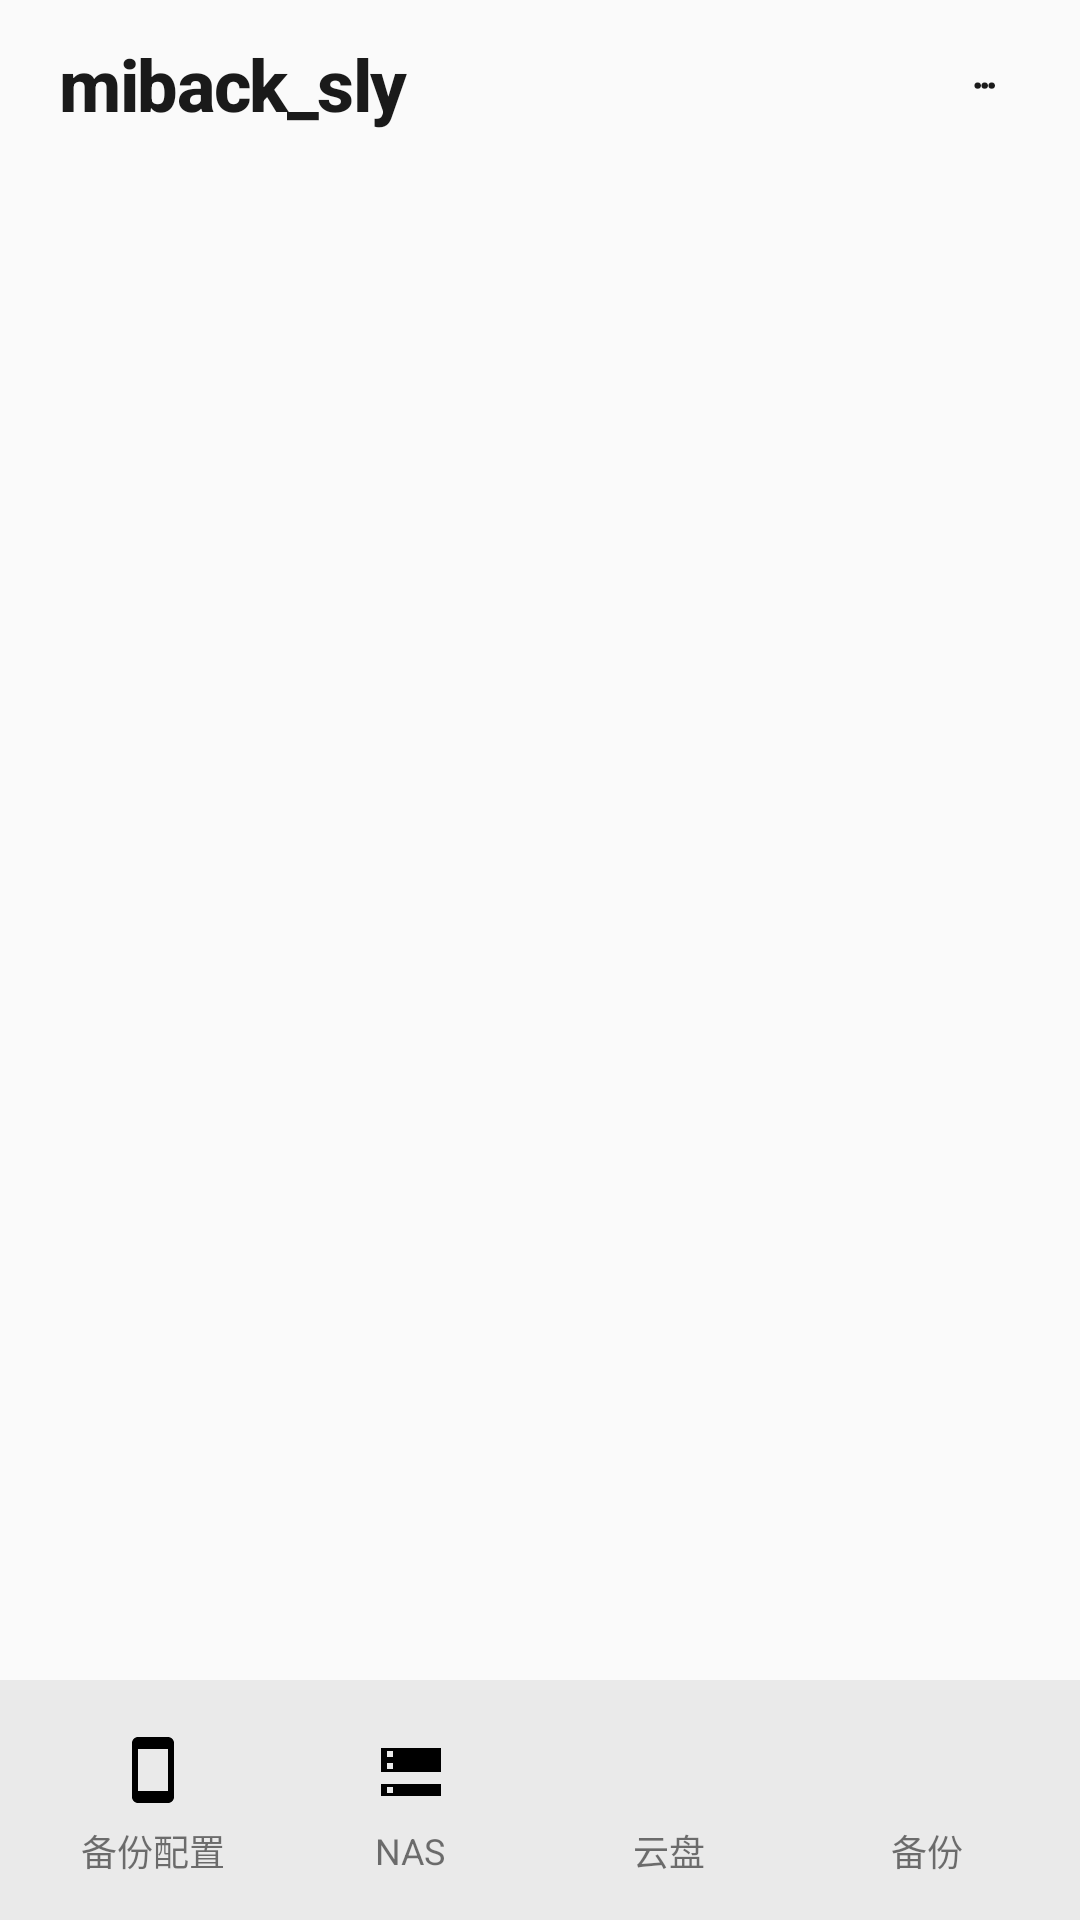

Locate icon controls on the screen. Image size 1080w x 1920h, boxes as (x1, y1, x2, y2).
device: (132, 1737, 174, 1803)
